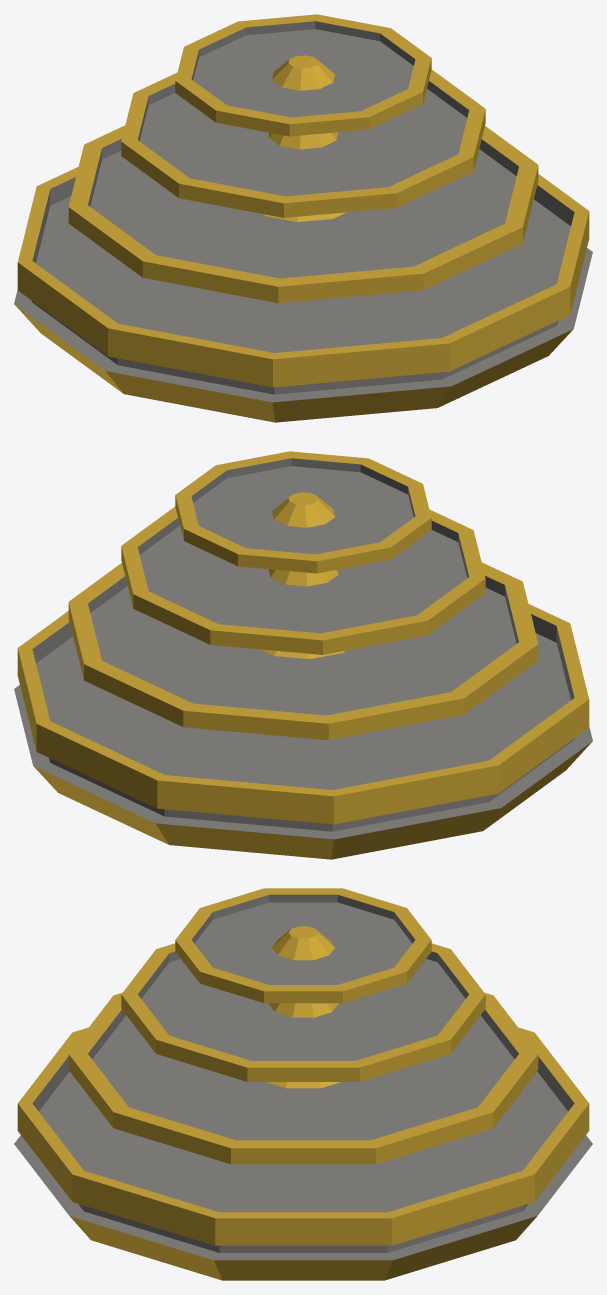
Rendered from WaterFountain 1.fbx.
3 renders of one model, top to bottom at view 1: azimuth 30°, elevation 25°; view 2: azimuth 150°, elevation 25°; view 3: azimuth 270°, elevation 25°, orthographic. The views are drawn at different scales.
Parts seen in each view (by area): view 1: Cylinder; view 2: Cylinder; view 3: Cylinder.
Boxes of the visible parts, x1,y1,x2,y2 form: Cylinder: (14, 14, 592, 422); Cylinder: (14, 451, 592, 859); Cylinder: (14, 888, 592, 1280).
Size of the model in its own units: 27.54 by 13.39 by 28.96.
